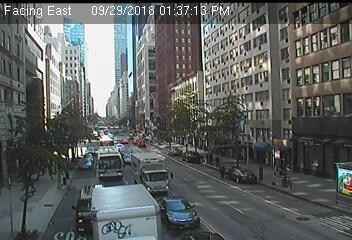car: (89, 185, 163, 240), (71, 184, 106, 236), (131, 153, 172, 194), (154, 196, 199, 230), (97, 145, 124, 180), (223, 166, 257, 185), (182, 151, 199, 164), (123, 152, 137, 166), (167, 147, 181, 157), (78, 159, 91, 169), (82, 153, 92, 162)
